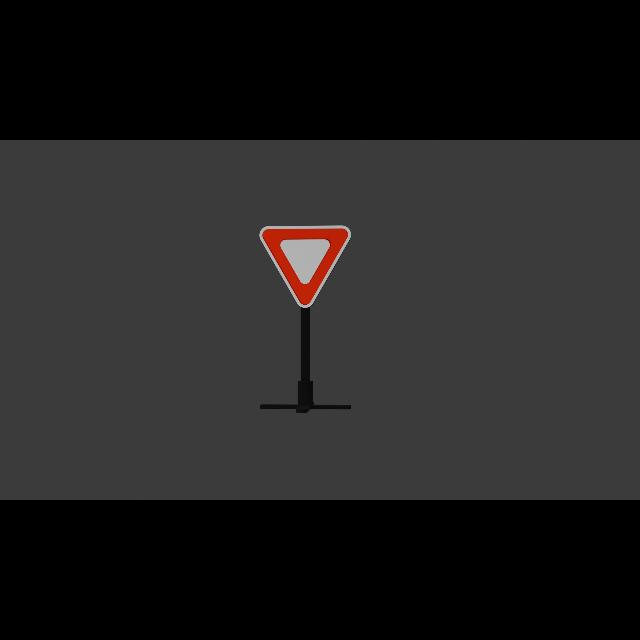sign_yield: (260, 225, 352, 309)
